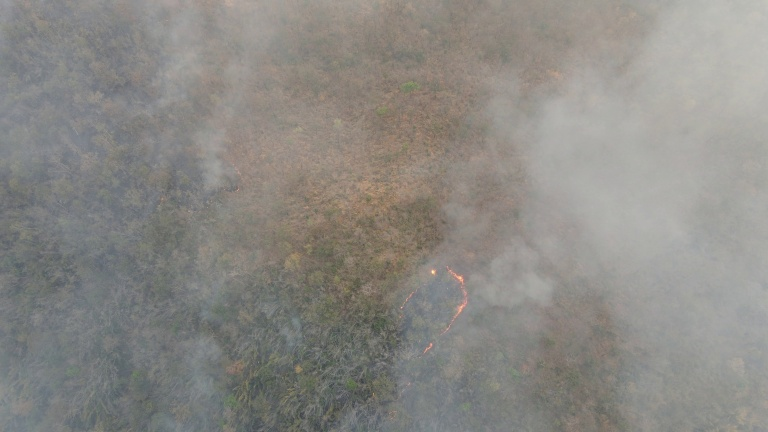fire: (392, 257, 479, 362)
smoke: (395, 2, 768, 432), (1, 1, 233, 430)
